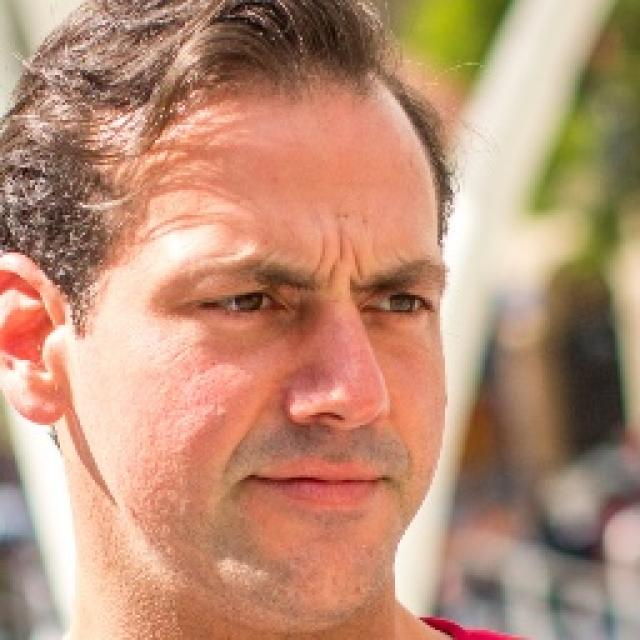earlobe: (0, 252, 66, 425)
